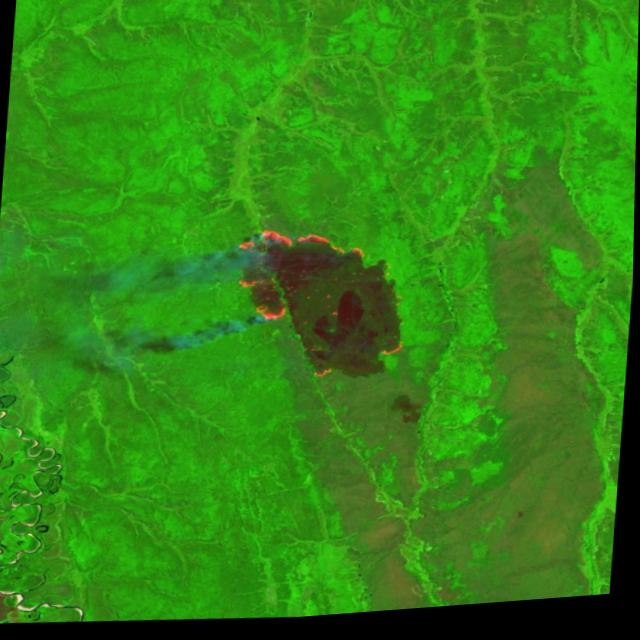fire: (230, 225, 371, 332), (375, 345, 409, 365), (311, 367, 341, 387)
